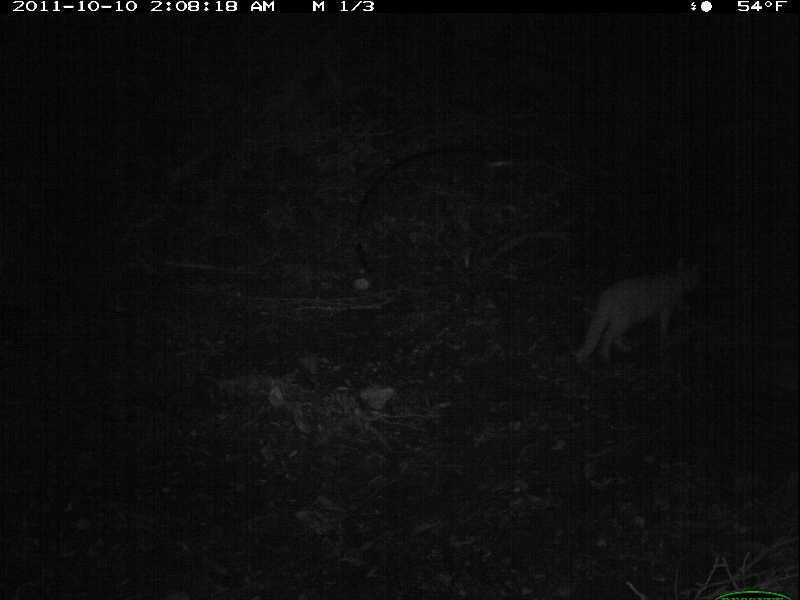cat: (572, 260, 704, 365)
